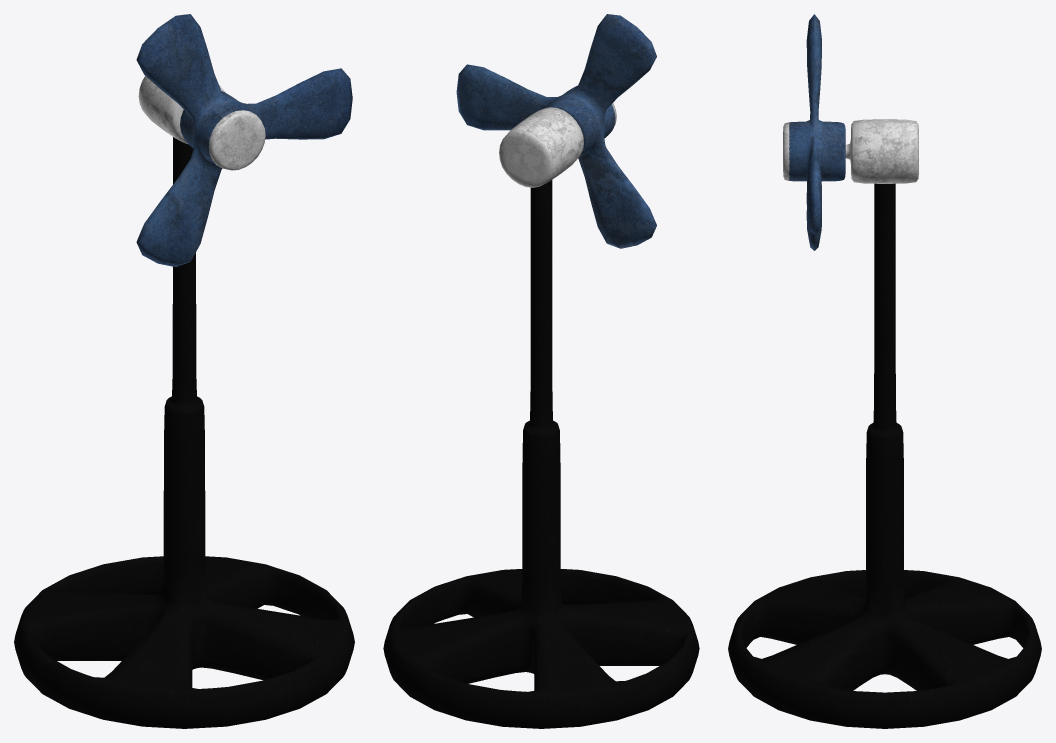
The model's file is Electric Fan.fbx.
The picture shows the model from 3 angles, left to right: view 1: azimuth 30°, elevation 25°; view 2: azimuth 150°, elevation 25°; view 3: azimuth 270°, elevation 25°; orthographic projection. The views are drawn at different scales.
Visible parts, largest first — view 1: Cylinder.002; view 2: Cylinder.002; view 3: Cylinder.002.
Boxes of the visible parts, x1,y1,x2,y2 form: Cylinder.002: [14, 14, 354, 728]; Cylinder.002: [383, 14, 699, 728]; Cylinder.002: [728, 14, 1041, 728].
Bounding box in the file's own units: 96.58 × 214 × 96.58.
Materials: 1 (1 with a texture image).
